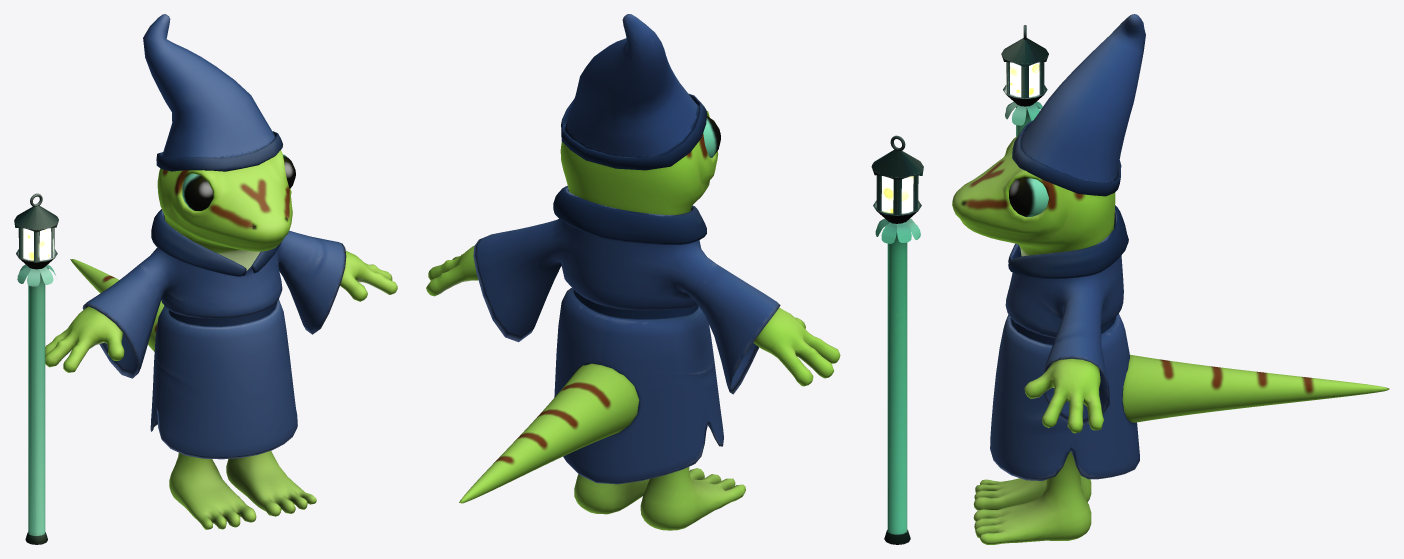
Rendered from Gecko_Main.fbx.
3 renders of one model, left to right at view 1: azimuth 30°, elevation 25°; view 2: azimuth 150°, elevation 25°; view 3: azimuth 270°, elevation 25°, orthographic. The views are drawn at different scales.
Visible parts, largest first — view 1: Manto, Gecko, Cajado_low; view 2: Manto, Gecko, Cajado_low; view 3: Gecko, Manto, Cajado_low.
Part boxes in pixels (<box>): Manto: <box>82,209,346,459</box>; Gecko: <box>45,14,397,529</box>; Cajado_low: <box>14,193,58,544</box>; Manto: <box>473,186,780,484</box>; Gecko: <box>426,14,840,530</box>; Cajado_low: <box>871,135,923,544</box>; Gecko: <box>952,14,1389,544</box>; Manto: <box>990,205,1139,480</box>; Cajado_low: <box>1001,25,1048,136</box>.
Bounding box in the file's own units: 139 × 153 × 123.
